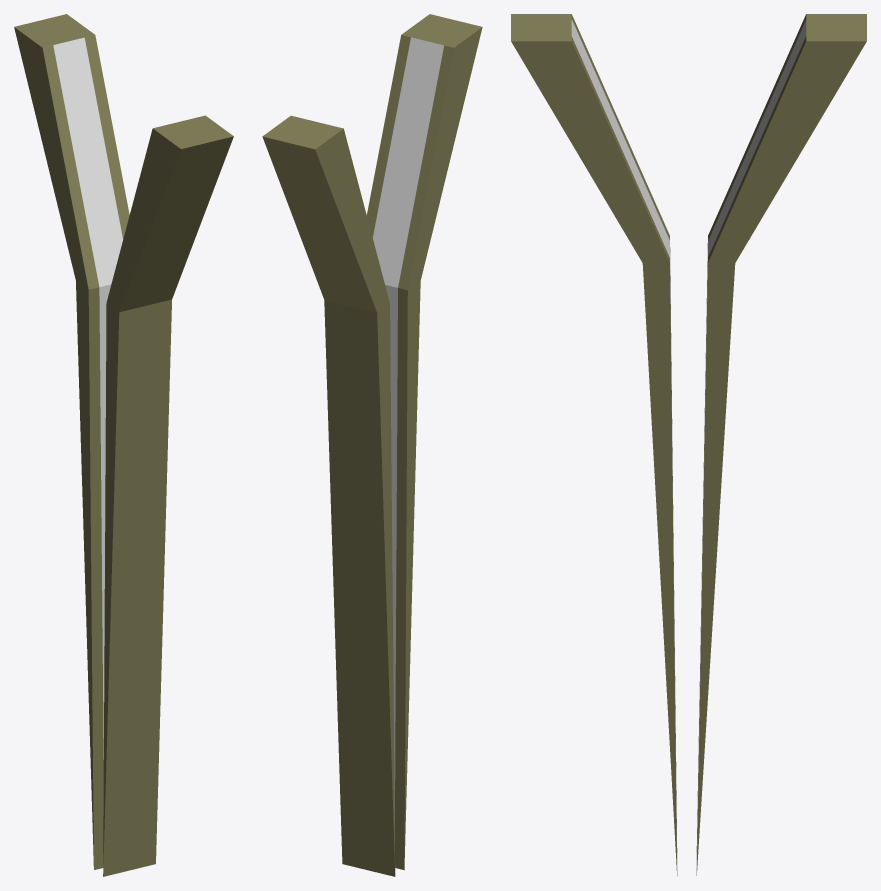
Rendered from tesla.fbx.
3 views of the same model, side by side, from view 1: azimuth 30°, elevation 25°; view 2: azimuth 150°, elevation 25°; view 3: azimuth 270°, elevation 25° (orthographic). The views are drawn at different scales.
Parts seen in each view (by area): view 1: Plane.107; view 2: Plane.107; view 3: Plane.107.
Part boxes in pixels (<box>): Plane.107: <box>14,14,233,876</box>; Plane.107: <box>262,14,482,876</box>; Plane.107: <box>511,14,866,876</box>.
Bounding box in the file's own units: 126 × 1786 × 690.
